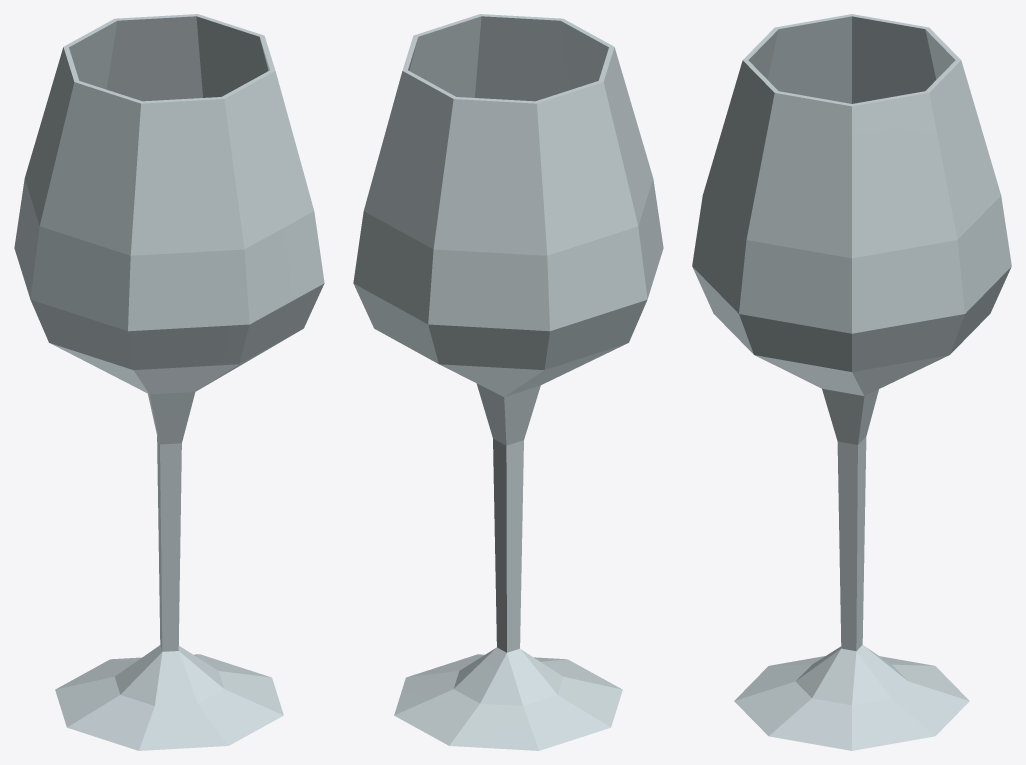
Rendered from wineglass_001.obj.
3 renders of one model, left to right at view 1: azimuth 30°, elevation 25°; view 2: azimuth 150°, elevation 25°; view 3: azimuth 270°, elevation 25°, orthographic.
Parts seen in each view (by area): view 1: wineglass_001; view 2: wineglass_001; view 3: wineglass_001.
Part boxes in pixels (bbox=[...]): wineglass_001: bbox=[14, 14, 324, 750]; wineglass_001: bbox=[353, 14, 663, 750]; wineglass_001: bbox=[692, 14, 1011, 750].
Bounding box in the file's own units: 0.0958 × 0.2119 × 0.0958.
